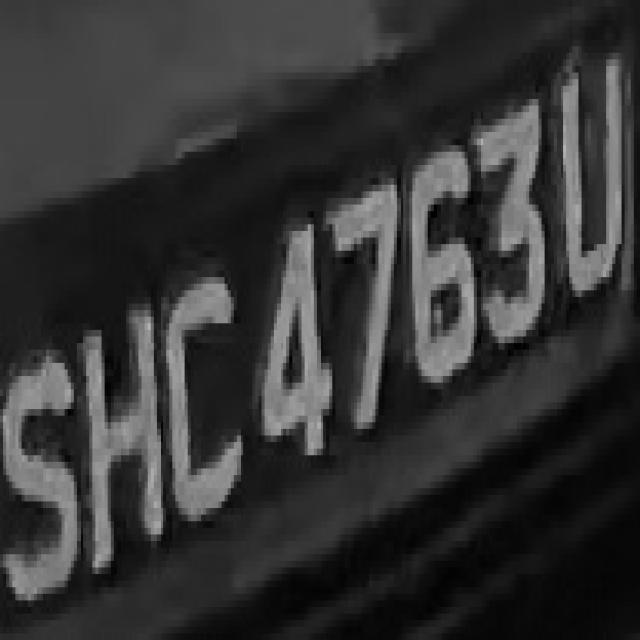3: (470, 112, 548, 356)
4: (243, 204, 342, 462)
6: (406, 138, 489, 402)
7: (314, 185, 406, 442)
C: (166, 290, 243, 522)
H: (83, 297, 169, 581)
S: (0, 323, 83, 627)
U: (560, 40, 631, 310)
